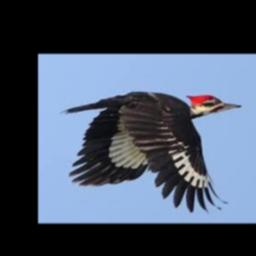Woodpecker: (58, 91, 241, 212)
